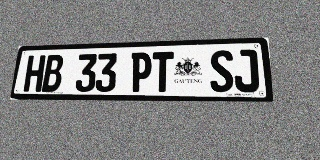3: (95, 53, 117, 92), (75, 54, 97, 92)
B: (41, 55, 64, 92)
H: (23, 55, 46, 92)
J: (233, 49, 260, 92)
P: (130, 52, 152, 92)
S: (210, 50, 234, 92)
T: (151, 52, 174, 92)
